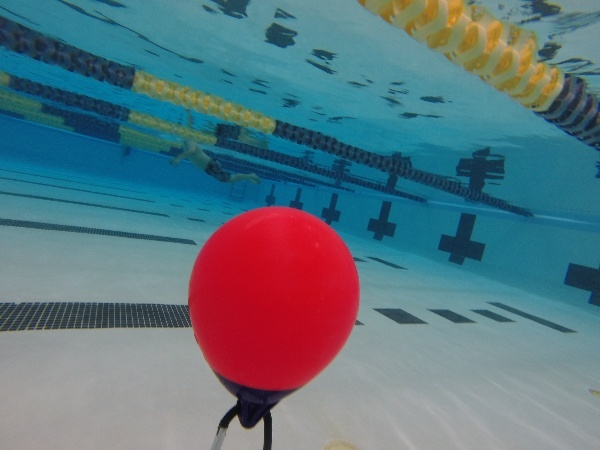buoy_red: (178, 200, 368, 431)
